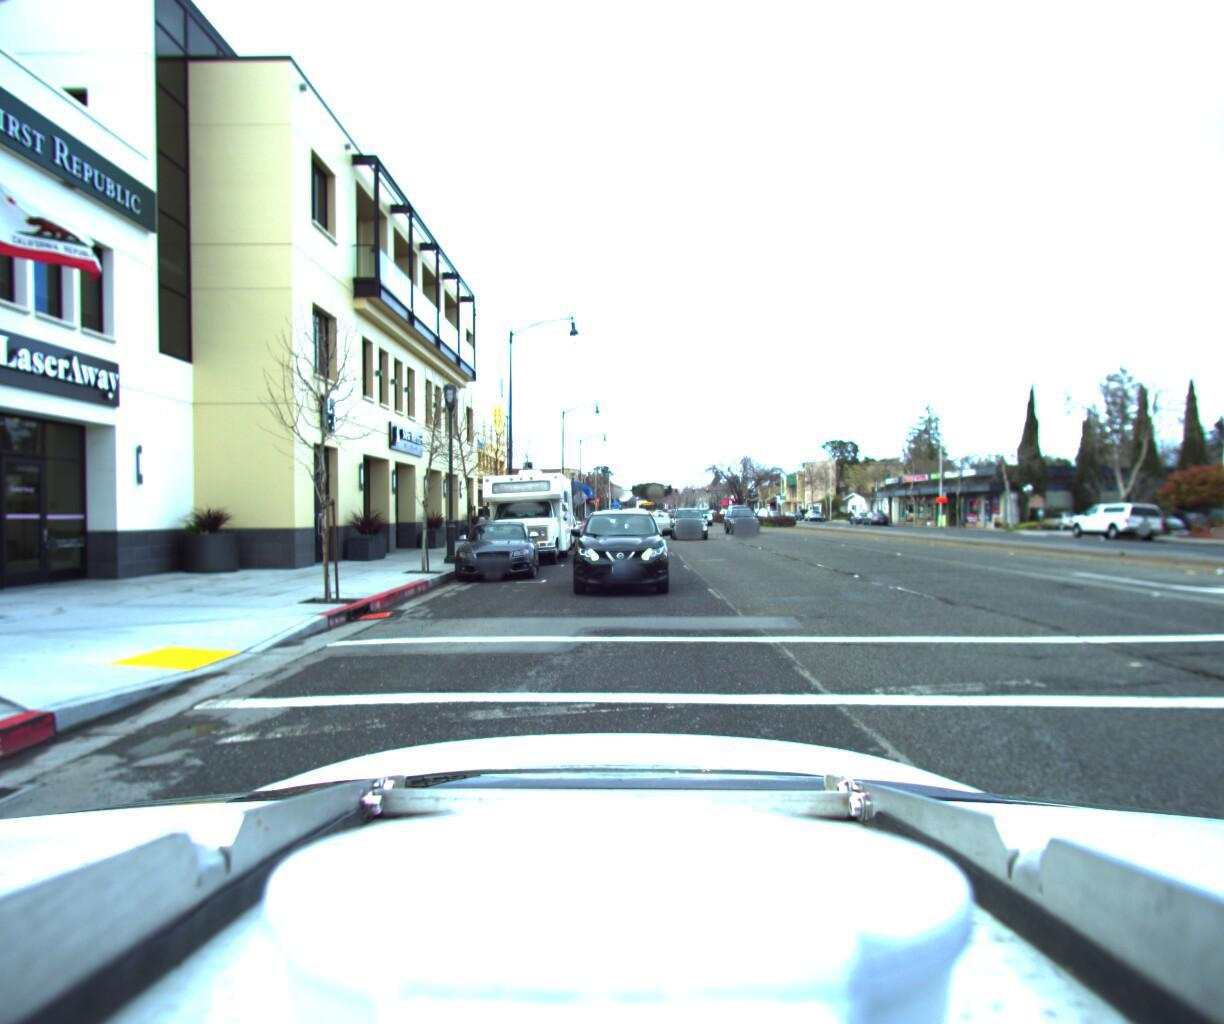car: (476, 454, 577, 563), (565, 503, 667, 602), (451, 513, 541, 579), (1063, 494, 1166, 537), (667, 503, 711, 537), (721, 494, 762, 526), (1031, 503, 1092, 525), (859, 503, 891, 519)
